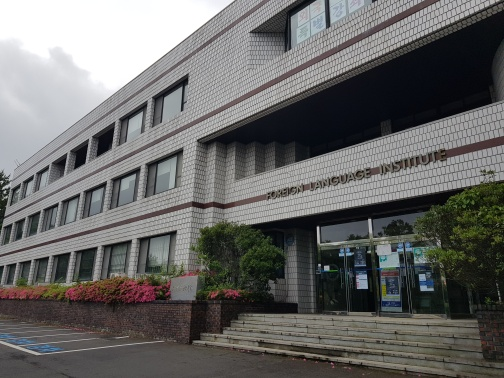Foreign Language Institute: (9, 3, 503, 364), (229, 142, 504, 366), (51, 147, 193, 224), (30, 229, 180, 291), (257, 148, 450, 188)
